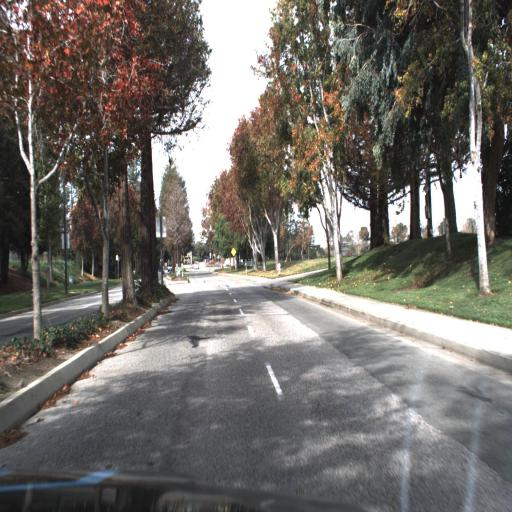car: (194, 262, 199, 270), (168, 264, 173, 272)
